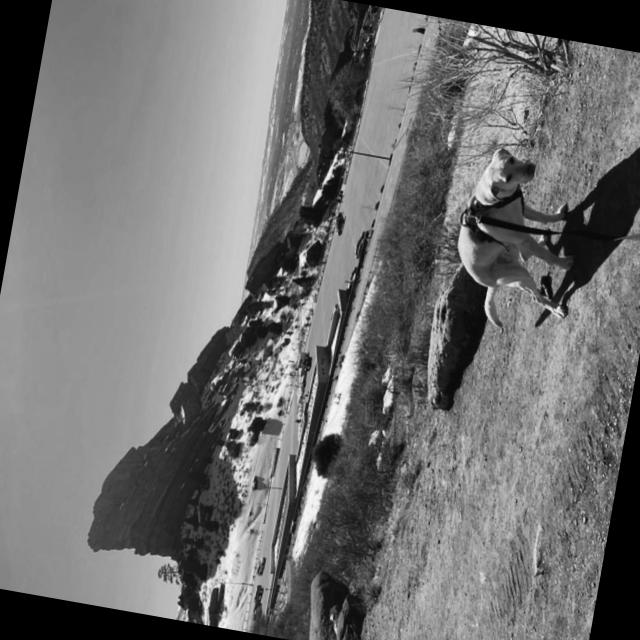squatting: (440, 134, 601, 348)
